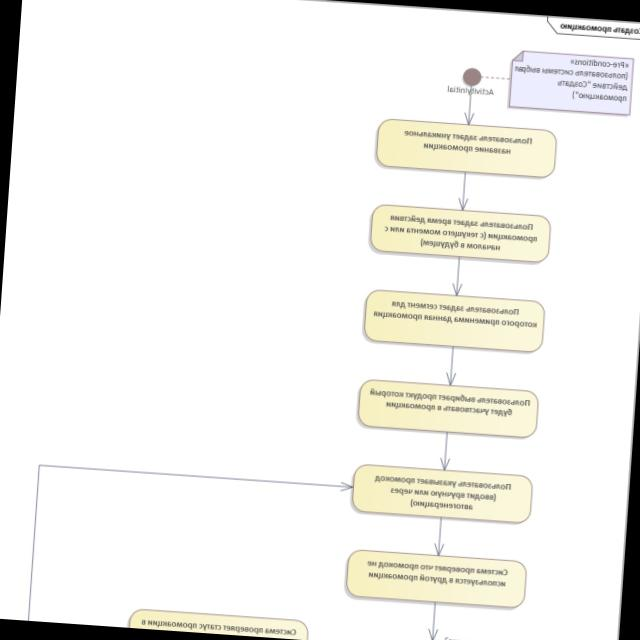arrow: (41, 465, 351, 491), (451, 257, 460, 295), (433, 518, 442, 555), (439, 433, 448, 469), (446, 347, 454, 385), (458, 172, 466, 209), (464, 88, 472, 124), (428, 603, 436, 639), (340, 482, 351, 491)
circle: (463, 68, 480, 86)
rectangle: (363, 289, 545, 352), (374, 118, 557, 179), (369, 203, 551, 264), (351, 464, 533, 524), (356, 379, 538, 439), (345, 549, 526, 609)
text_region: (445, 85, 495, 97), (443, 636, 540, 640)
